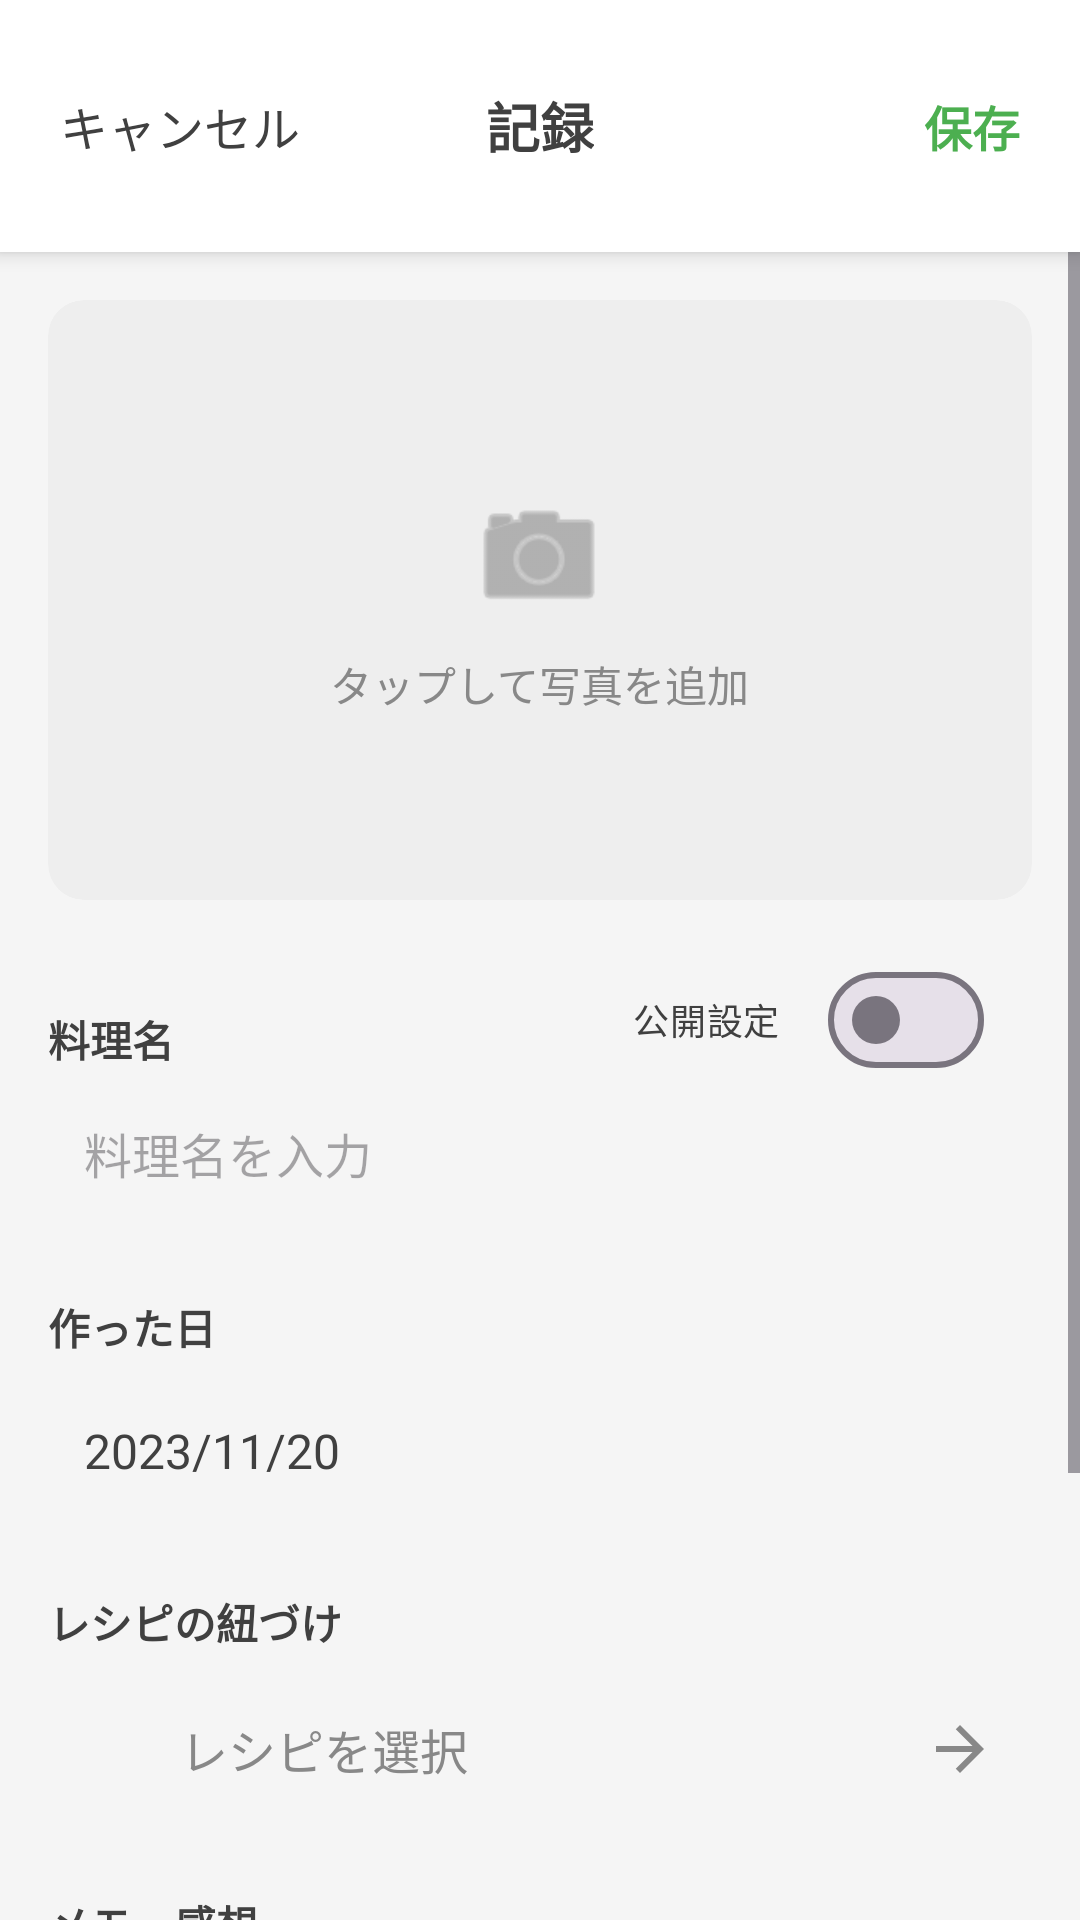

Where icons sit on this 1080 × 1920 app screen, as (x1=x1, y1=y1, x2=x2, y2=y2):
camera: (x1=484, y1=511, x2=594, y2=598)
